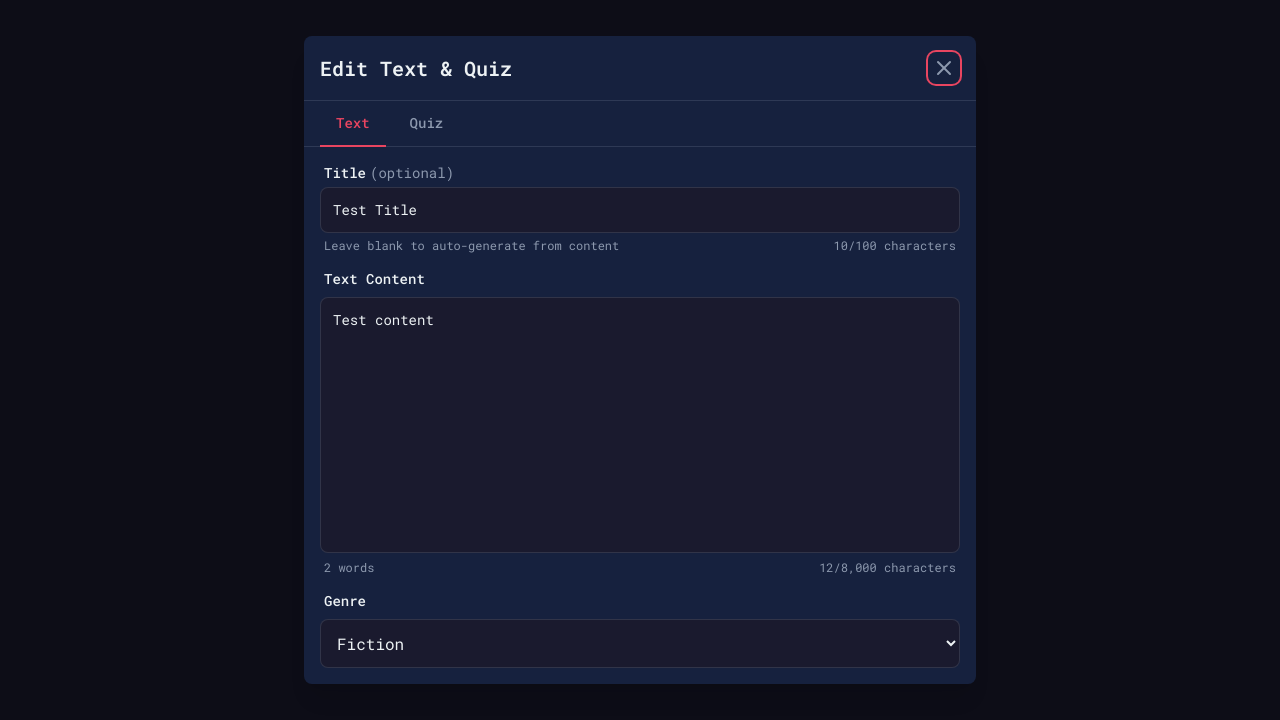
it: EditTextModal tabs › switches back to Text tab
This screenshot has width=1280, height=720.
Click the tab with test id "edit-modal-quiz-tab" at point(426, 124), box x1=394 y1=101 x2=459 y2=147
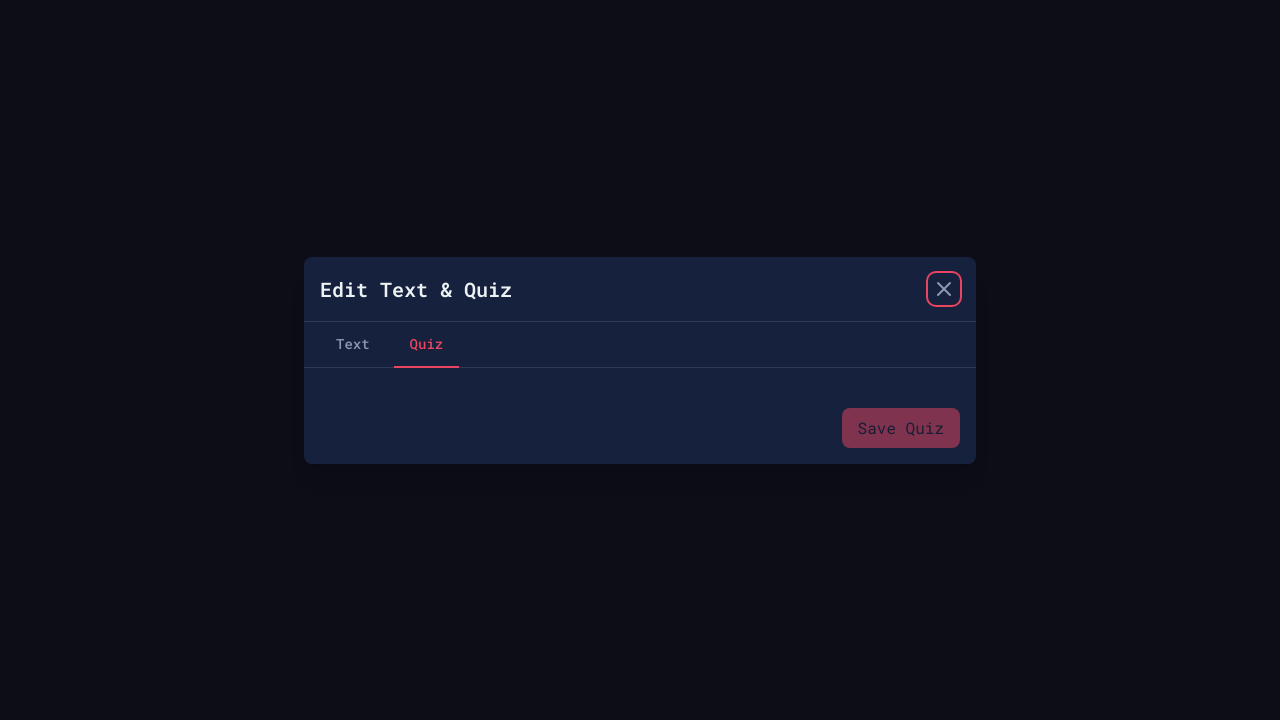
Click the tab with test id "edit-modal-text-tab" at point(353, 344), box x1=320 y1=322 x2=386 y2=368
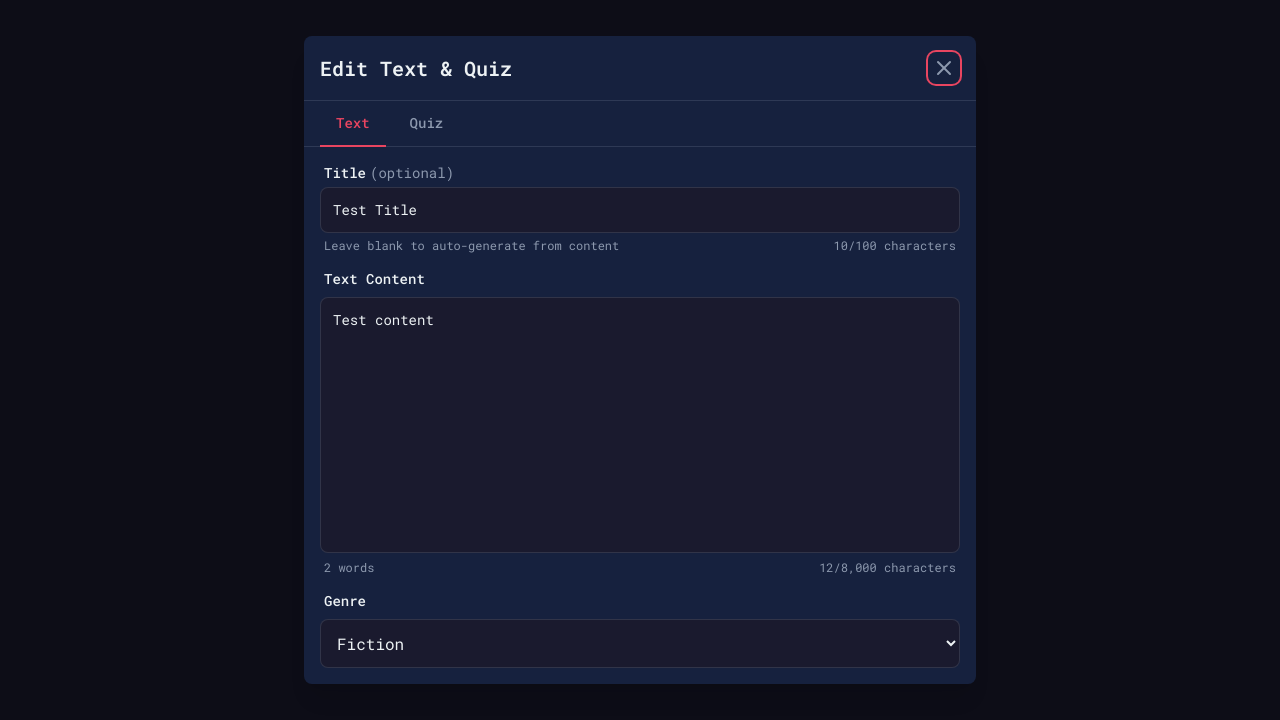
Expected: the text box labelled "Text Content" is shown, x1=320 y1=297 x2=960 y2=553
